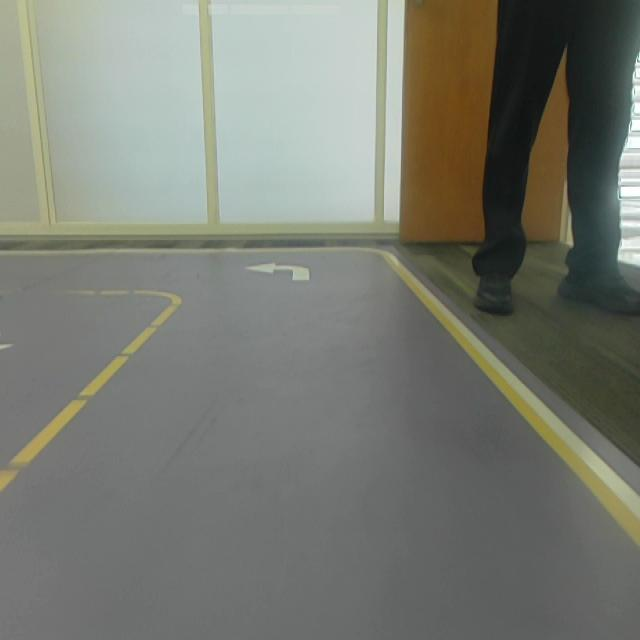left_lane: (1, 304, 183, 495)
right_lane: (381, 252, 640, 548)
